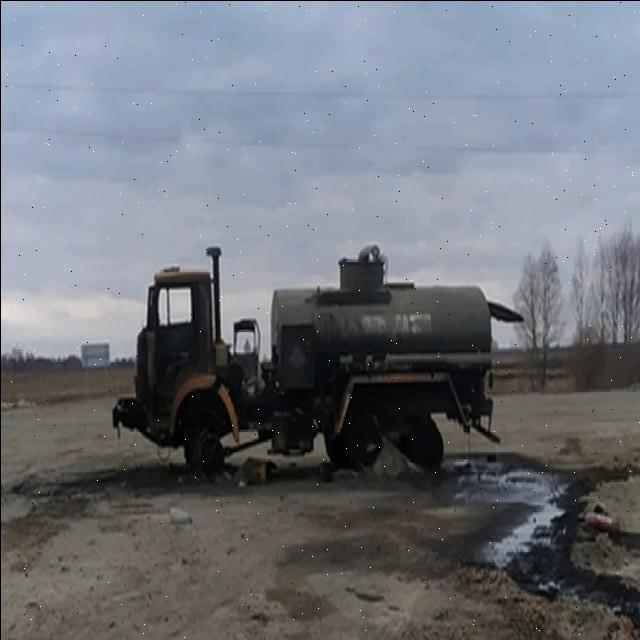TRUCK: (106, 238, 512, 496)
